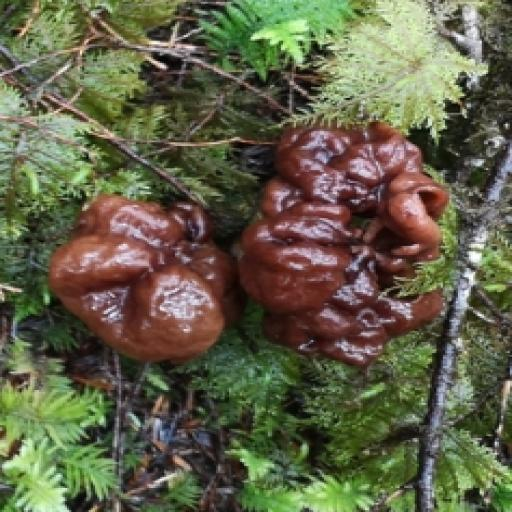False Morel: (235, 109, 451, 361), (48, 180, 250, 377)
